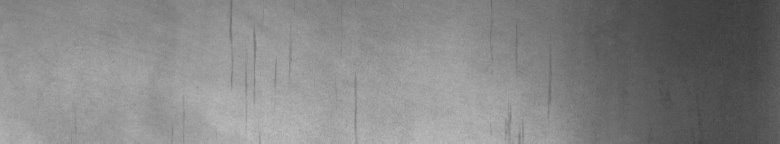ka: (225, 4, 292, 101)
